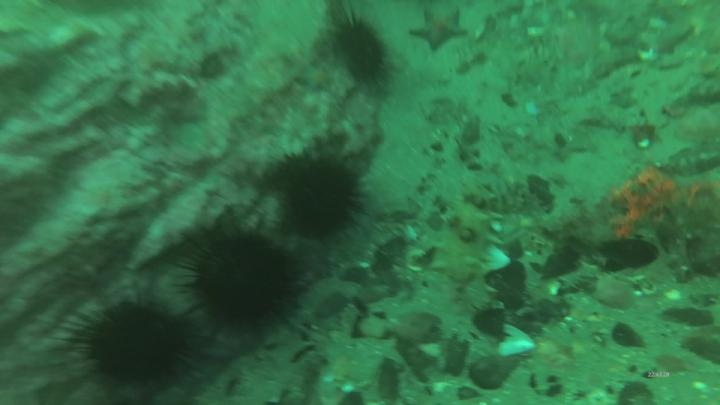echinus: (172, 217, 310, 341), (59, 285, 213, 396), (263, 151, 372, 244), (328, 7, 394, 98)
holothurian: (437, 193, 496, 287)
starfish: (407, 5, 470, 53)
